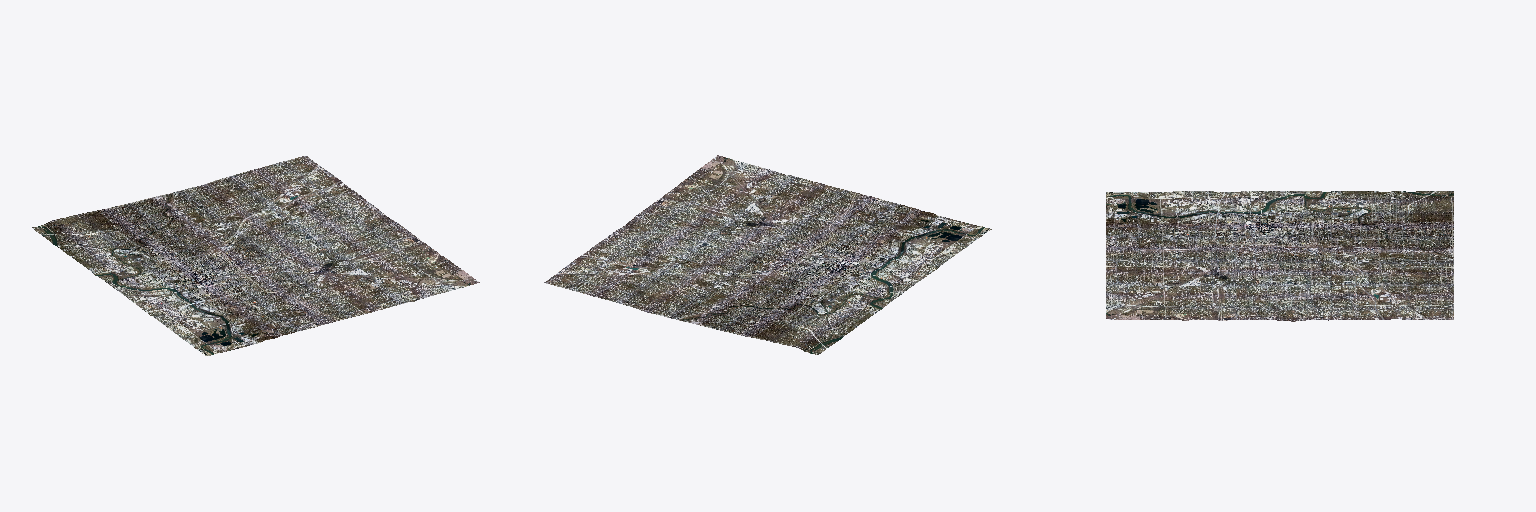
3 views of the same model, side by side, from view 1: azimuth 30°, elevation 25°; view 2: azimuth 150°, elevation 25°; view 3: azimuth 270°, elevation 25° (orthographic).
Parts seen in each view (by area): view 1: object, object17, object1, object18, object4, object10, object2, object16, object15, object3, object9, object19 (+14 smaller); view 2: object17, object10, object4, object18, object2, object1, object16, object9, object, object15, object3, object19 (+15 smaller); view 3: object1, object17, object16, object2, object19, object18, object4, object, object10, object3, object15, object9 (+13 smaller).
Part boxes in pixels (bbox=[...]): object: bbox=[32, 212, 121, 252]; object17: bbox=[155, 248, 247, 287]; object1: bbox=[89, 199, 180, 238]; object18: bbox=[190, 273, 279, 311]; object4: bbox=[148, 185, 236, 223]; object10: bbox=[214, 232, 303, 271]; object2: bbox=[123, 224, 213, 261]; object16: bbox=[99, 262, 188, 301]; object15: bbox=[248, 257, 336, 296]; object3: bbox=[66, 239, 153, 276]; object9: bbox=[182, 208, 269, 246]; object19: bbox=[133, 288, 221, 325]; object17: bbox=[770, 252, 861, 291]; object10: bbox=[713, 237, 802, 276]; object4: bbox=[646, 286, 735, 325]; object18: bbox=[804, 229, 894, 266]; object2: bbox=[737, 277, 827, 315]; object1: bbox=[703, 301, 794, 339]; object16: bbox=[829, 268, 917, 305]; object9: bbox=[680, 262, 767, 300]; object: bbox=[762, 316, 850, 354]; object15: bbox=[747, 213, 834, 251]; object3: bbox=[796, 292, 884, 330]; object19: bbox=[862, 245, 950, 281]; object1: bbox=[1386, 217, 1453, 247]; object17: bbox=[1253, 218, 1320, 246]; object16: bbox=[1253, 191, 1320, 218]; object2: bbox=[1321, 218, 1385, 246]; object19: bbox=[1187, 191, 1252, 219]; object18: bbox=[1187, 218, 1252, 246]; object4: bbox=[1386, 247, 1453, 273]; object: bbox=[1386, 191, 1453, 218]; object10: bbox=[1253, 246, 1320, 272]; object3: bbox=[1321, 191, 1385, 218]; object15: bbox=[1187, 246, 1252, 273]; object9: bbox=[1321, 246, 1385, 273].
Bounding box in the file's own units: 35005 × 889 × 38456.
Materials: 30 (30 with a texture image).